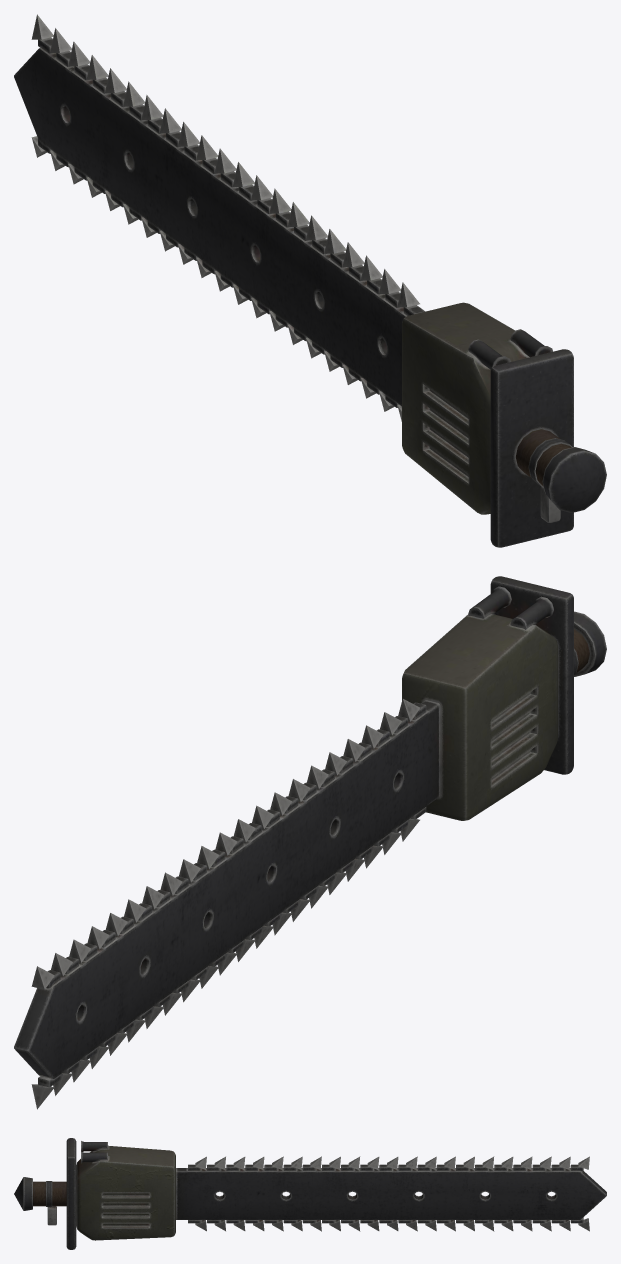
The model's file is footman_toothsword.glb.
3 renders of one model, top to bottom at view 1: azimuth 30°, elevation 25°; view 2: azimuth 150°, elevation 25°; view 3: azimuth 270°, elevation 25°, orthographic. The views are drawn at different scales.
Parts seen in each view (by area): view 1: footman_toothsword; view 2: footman_toothsword; view 3: footman_toothsword.
Part boxes in pixels (box(x1,y1,x2,y2)): footman_toothsword: box(14, 14, 606, 547); footman_toothsword: box(14, 576, 606, 1109); footman_toothsword: box(14, 1138, 606, 1249).
Bounding box in the file's own units: 0.06 × 0.1301 × 0.7434.
Materials: 1 (1 with a texture image).
